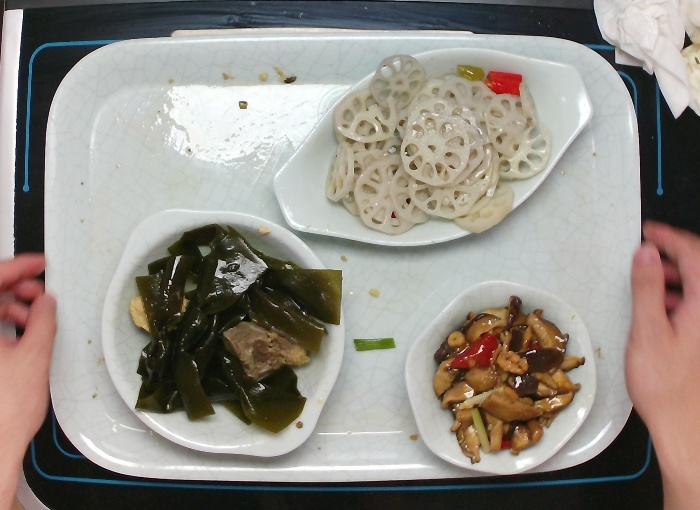JYsf-Shuang_Er_Wan: (99, 207, 347, 464)
JYsf-Yu_Pan: (272, 45, 595, 252)
WCQzf-Hua_Duo_Wan: (406, 279, 602, 477)
